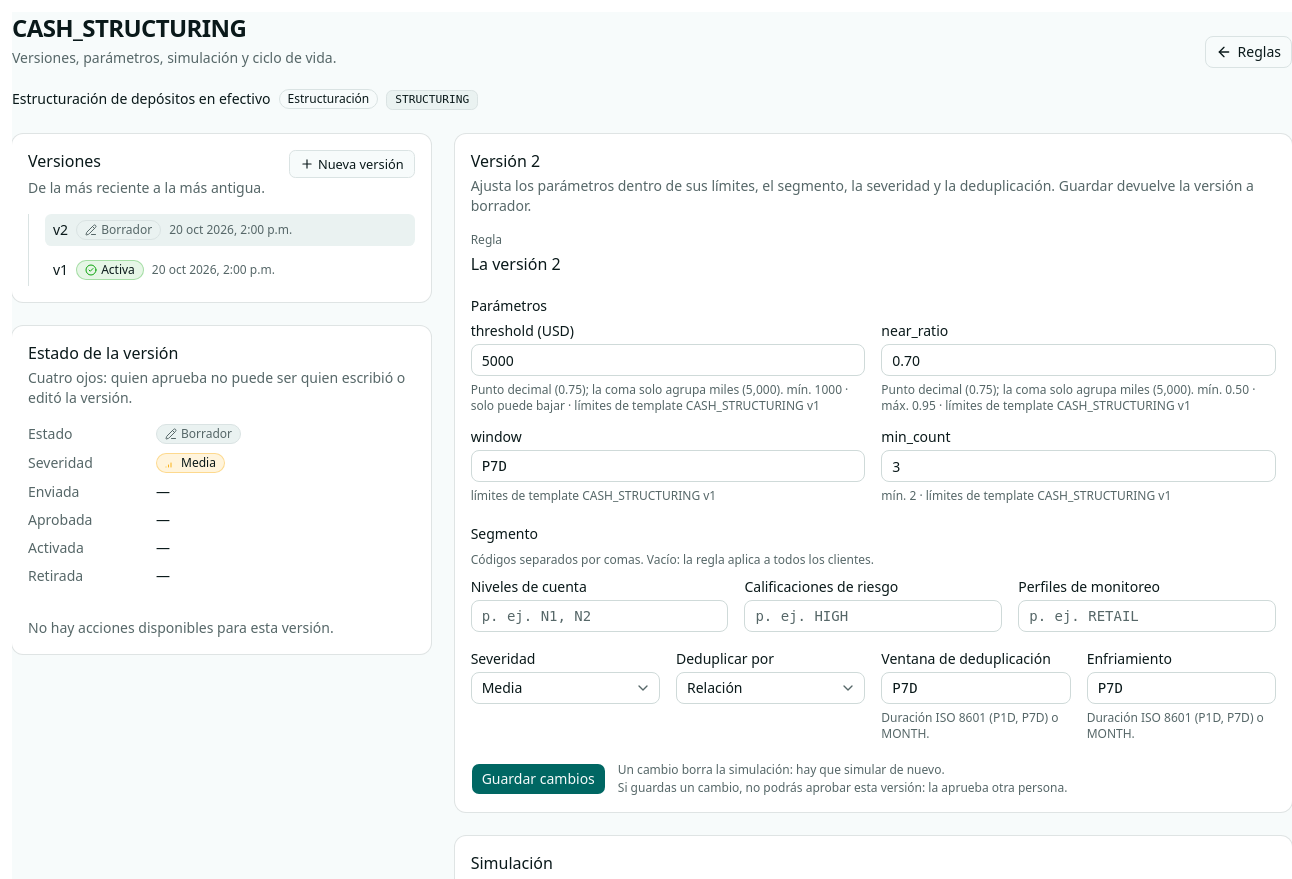
Test case: RulePage › lists the versions newest first and opens the one chosen
Check: the text "La versión 2" is shown, box [471,253,561,275]
Click the button "v1 Activa 20 oct 2026, 2:00 p.m.".
click(230, 270)  # box [45,254,415,286]
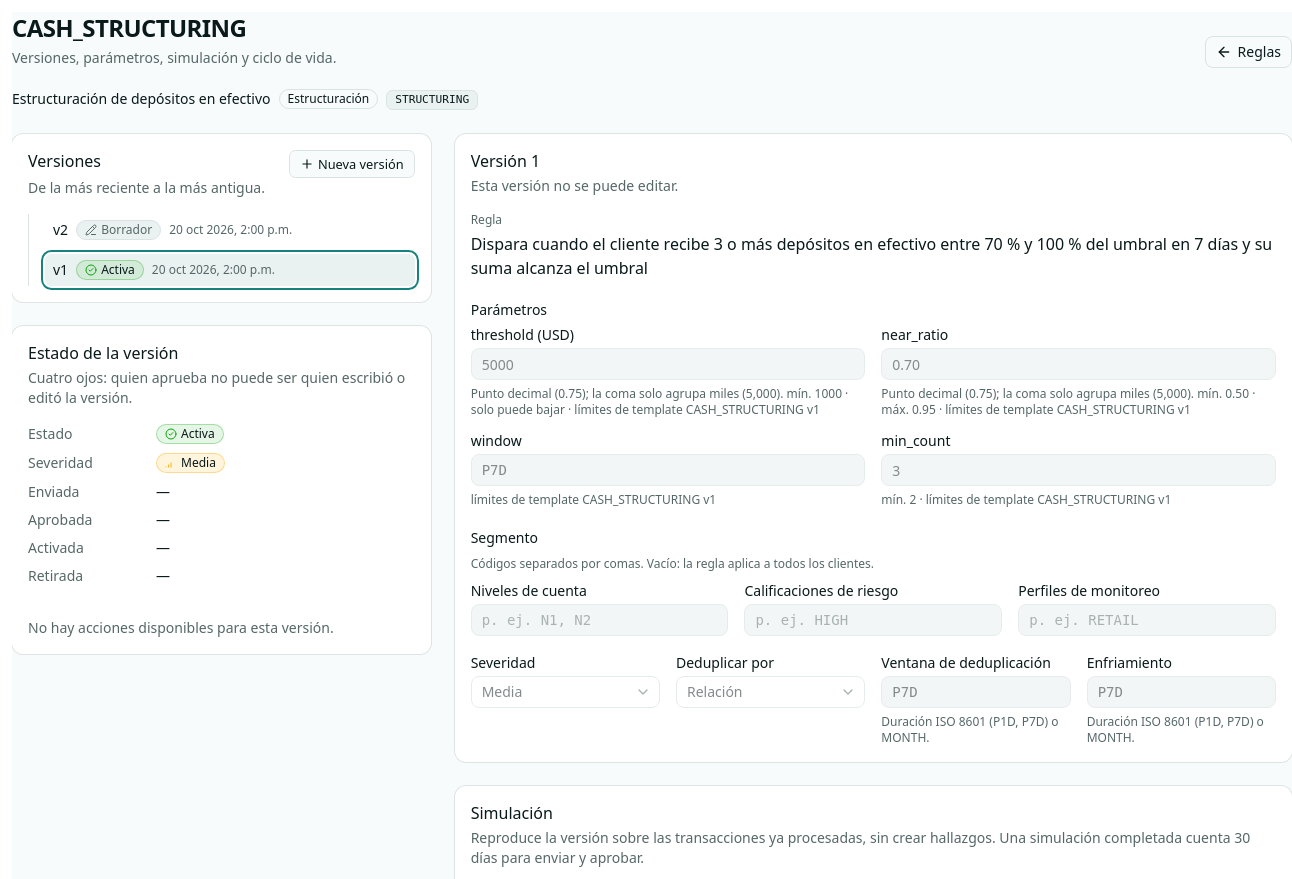
Check: the text "Versión 1" is shown, box [471,150,540,172]
Check: the text "Dispara cuando el cliente recibe 3 o más depósitos en efectivo entre 70 % y 100 % del umbral en 7 días y su suma alcanza" is shown, box [471,233,1272,279]
